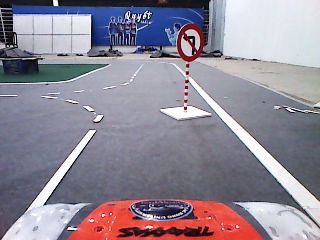ban: (176, 22, 205, 63)
